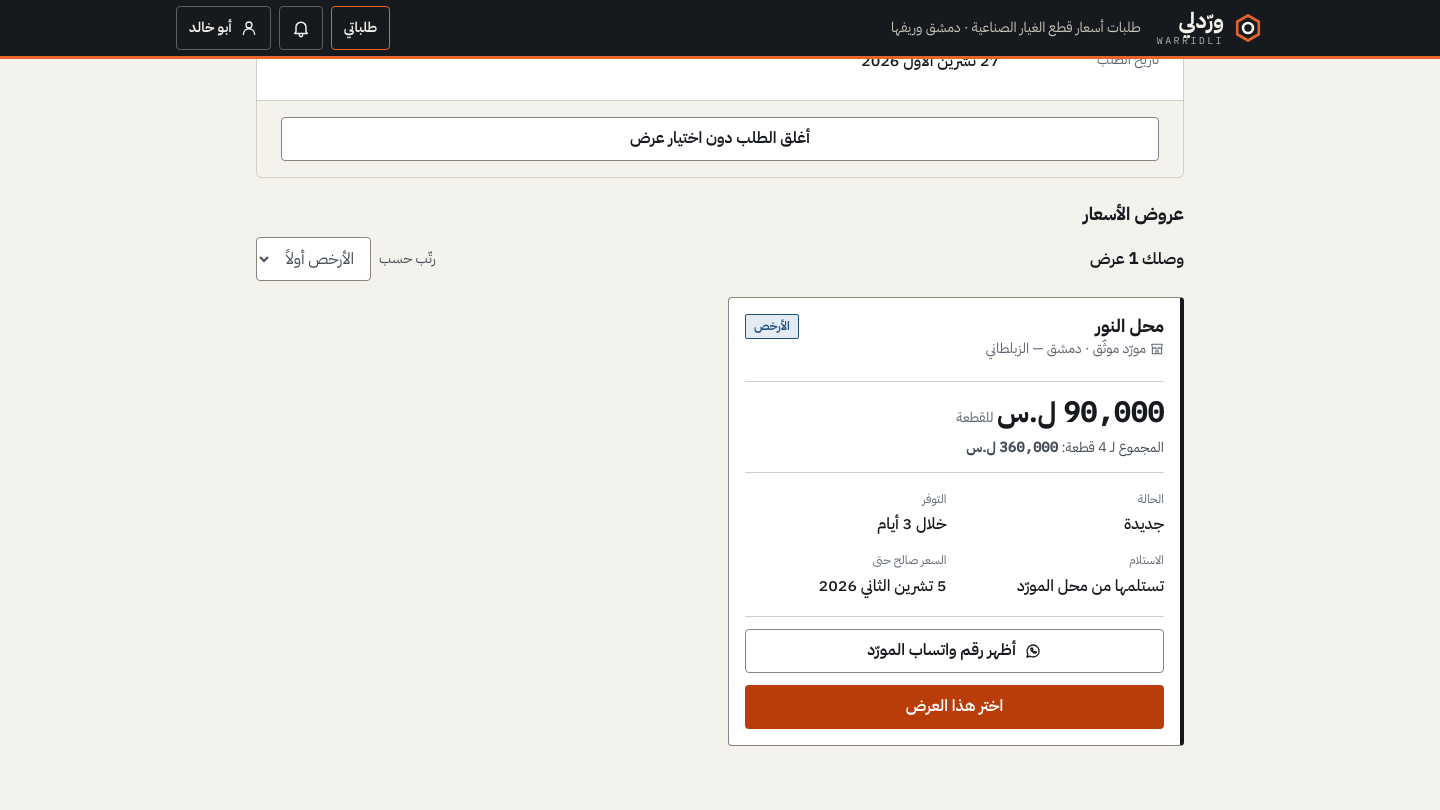
it: buyer quote comparison › shows the server's explanation when the quote changed meanwhile, and reloads the quotes
This screenshot has width=1440, height=810.
(page scrolled)
What coordinates should you click on to do the following:
click the button "اختر هذا العرض"
I would click on:
 (954, 707)
Its box is [745,685,1164,729].
(page scrolled)
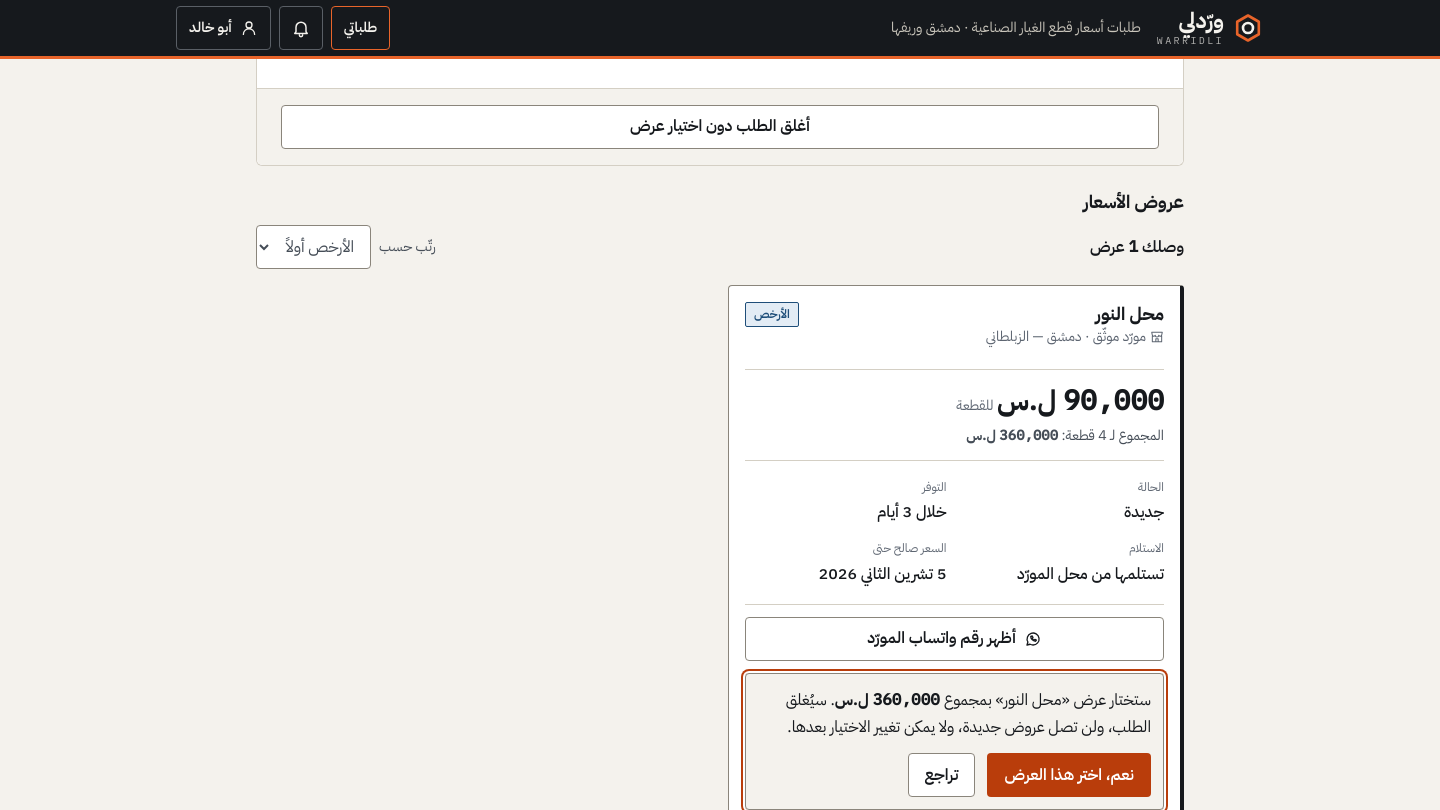
What coordinates should you click on to do the following:
click the button "نعم، اختر هذا العرض"
I would click on:
 (1069, 775)
Its box is [987,753,1151,797].
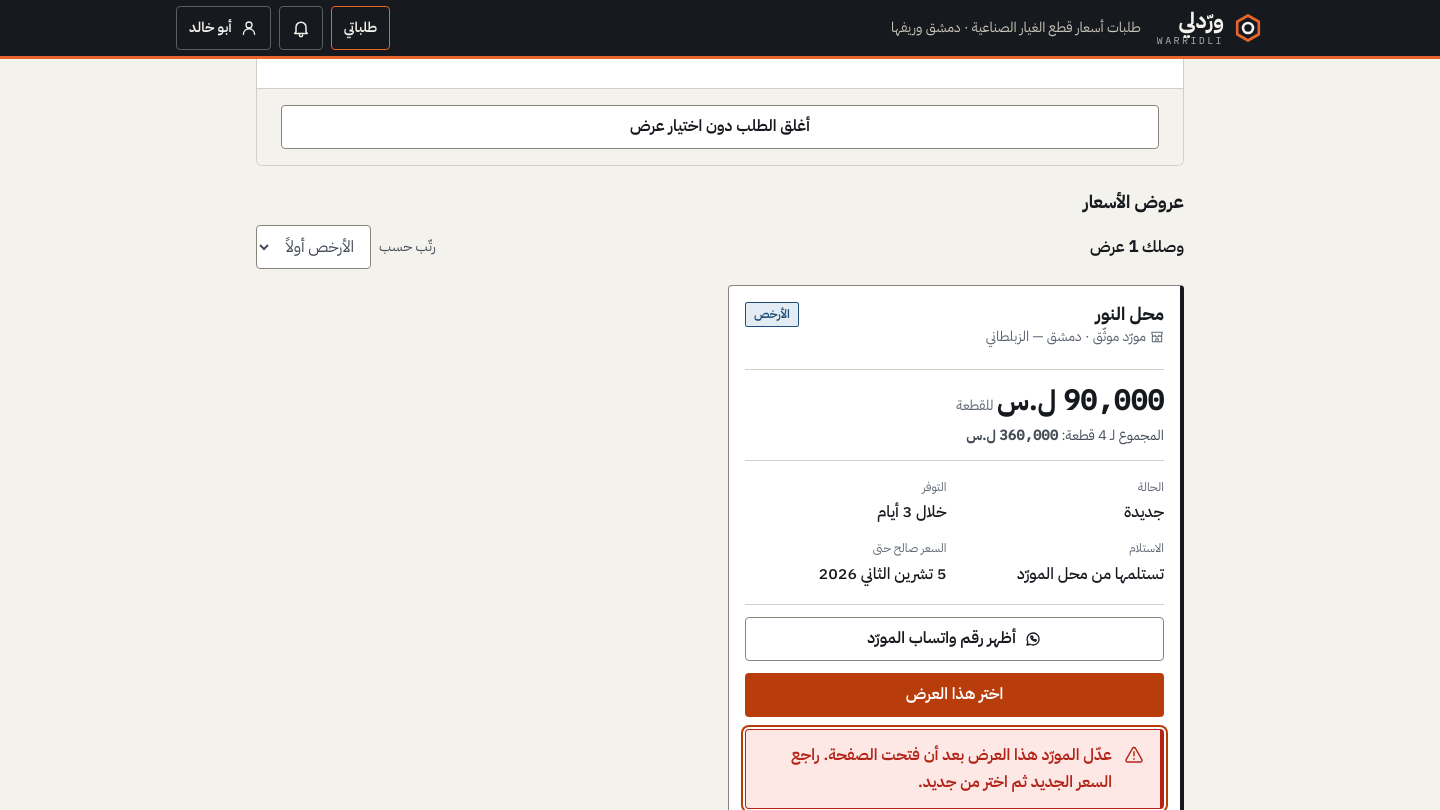
Expected: the button "اختر هذا العرض" is shown, [745,673,1164,717]
Now the text "عدّل المورّد هذا العرض بعد أن فتحت الصفحة. راجع السعر الجديد ثم اختر من جديد." is shown, box [762,742,1112,796]
